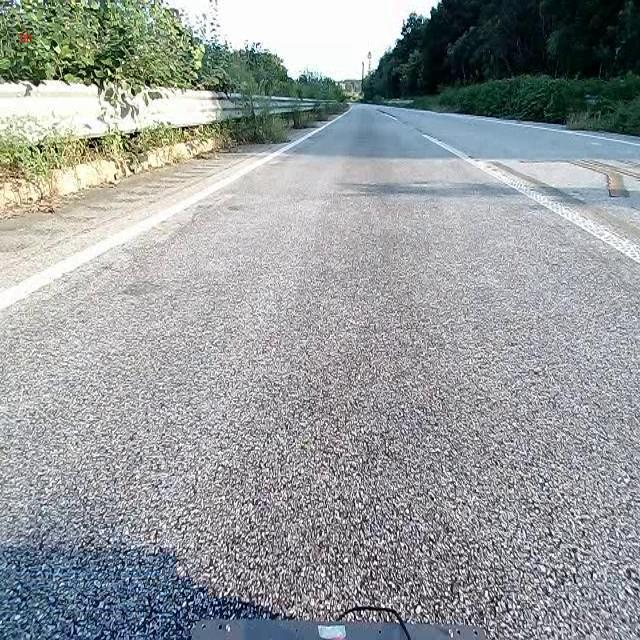Lane: (0, 108, 338, 314), (0, 118, 337, 314), (422, 127, 640, 268), (423, 135, 639, 264)
